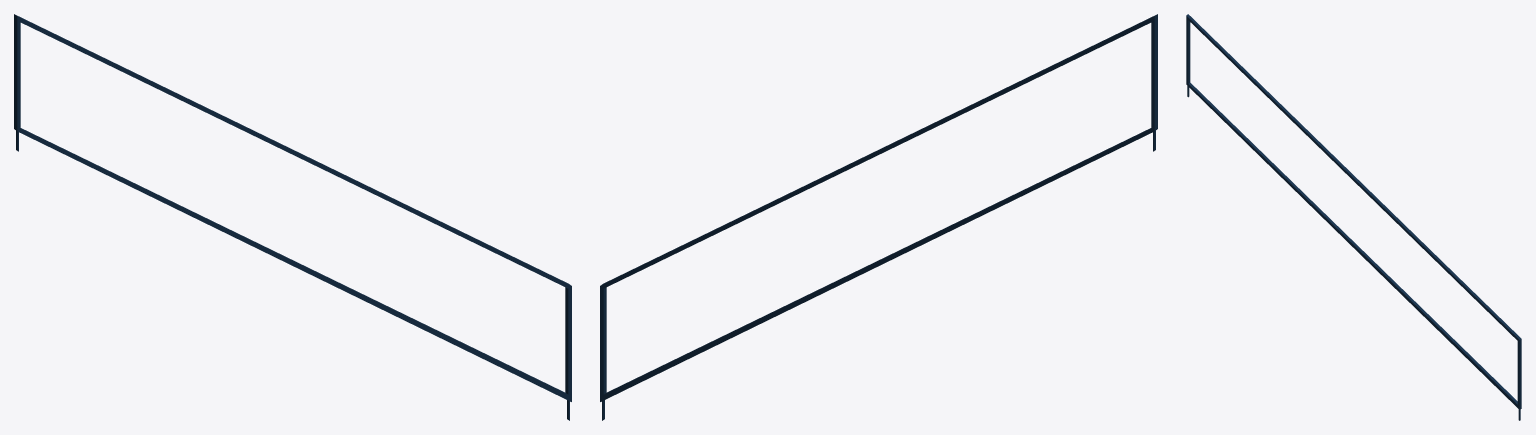
Rendered from RailLong_RailingLow.FBX.
3 renders of one model, left to right at view 1: azimuth 30°, elevation 25°; view 2: azimuth 150°, elevation 25°; view 3: azimuth 330°, elevation 25°, orthographic. The views are drawn at different scales.
Visible parts, largest first — view 1: RailLong_RailingLow; view 2: RailLong_RailingLow; view 3: RailLong_RailingLow.
Boxes of the visible parts, x1,y1,x2,y2 form: RailLong_RailingLow: (14, 14, 571, 420); RailLong_RailingLow: (600, 14, 1157, 420); RailLong_RailingLow: (1186, 14, 1521, 420).
Bounding box in the file's own units: 492 × 5 × 458.
